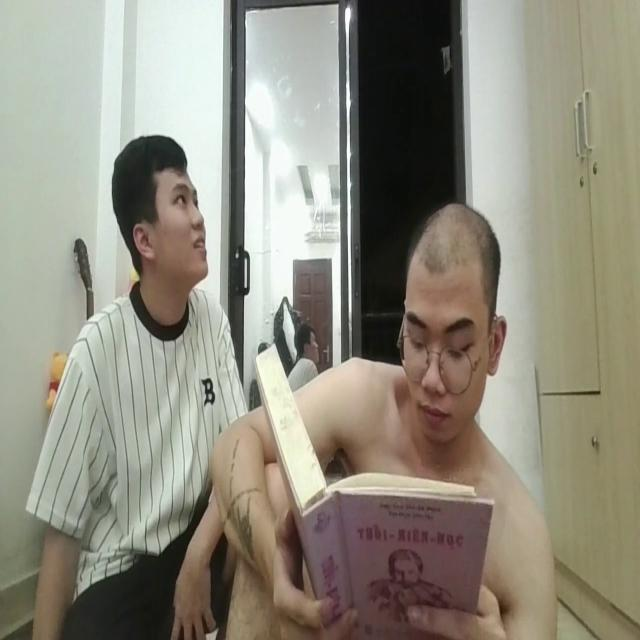book: (245, 336, 500, 633)
extra_person: (22, 104, 254, 640)
student: (228, 161, 560, 640)
